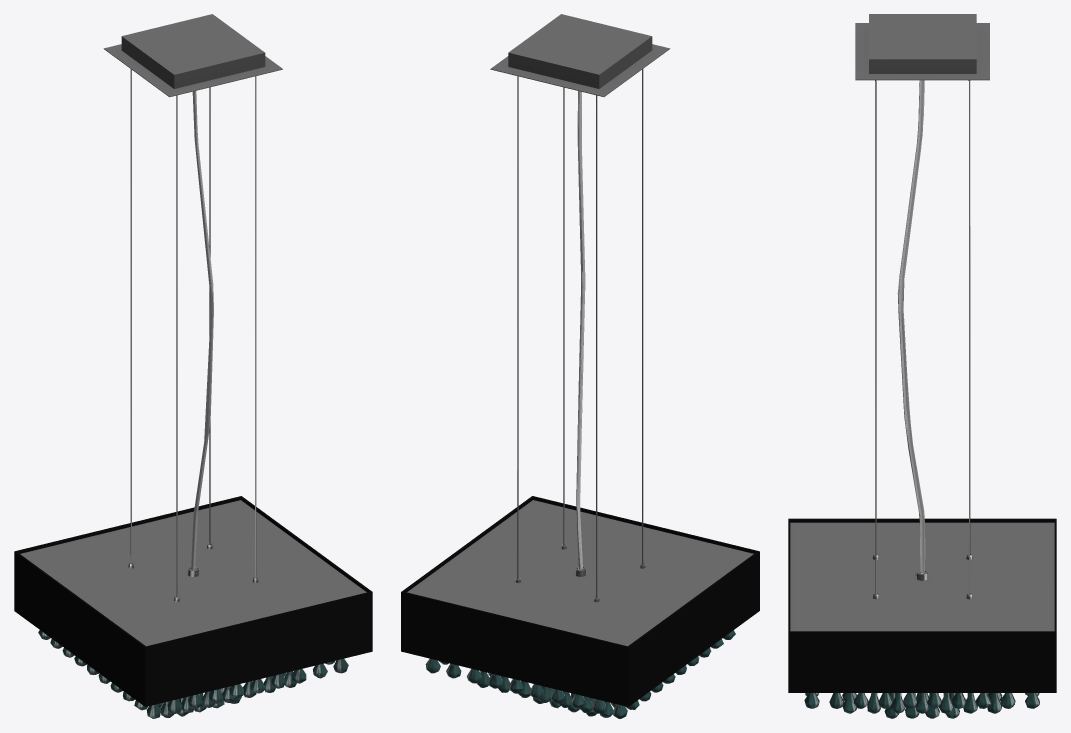
Rendered from raw_model.obj.
3 renders of one model, left to right at view 1: azimuth 30°, elevation 25°; view 2: azimuth 150°, elevation 25°; view 3: azimuth 270°, elevation 25°, orthographic. The views are drawn at different scales.
Visible parts, largest first — view 1: solid_003, solid_004, glass_002, glass_001; view 2: solid_003, solid_004, glass_002, glass_001; view 3: solid_003, solid_004, glass_002, glass_001.
Boxes of the visible parts, x1,y1,x2,y2 form: solid_003: (20,14,366,646); solid_004: (14,496,372,706); glass_002: (38,630,348,718); glass_001: (191,91,213,570); solid_003: (407,14,753,646); solid_004: (401,496,759,706); glass_002: (425,630,735,718); glass_001: (576,91,585,569); solid_003: (790,14,1054,631); solid_004: (788,518,1056,692); glass_002: (804,693,1039,718); glass_001: (897,80,925,574).
Size of the model in its own units: 0.4 by 1.1 by 0.4.
Materials: 1 (1 with a texture image).
